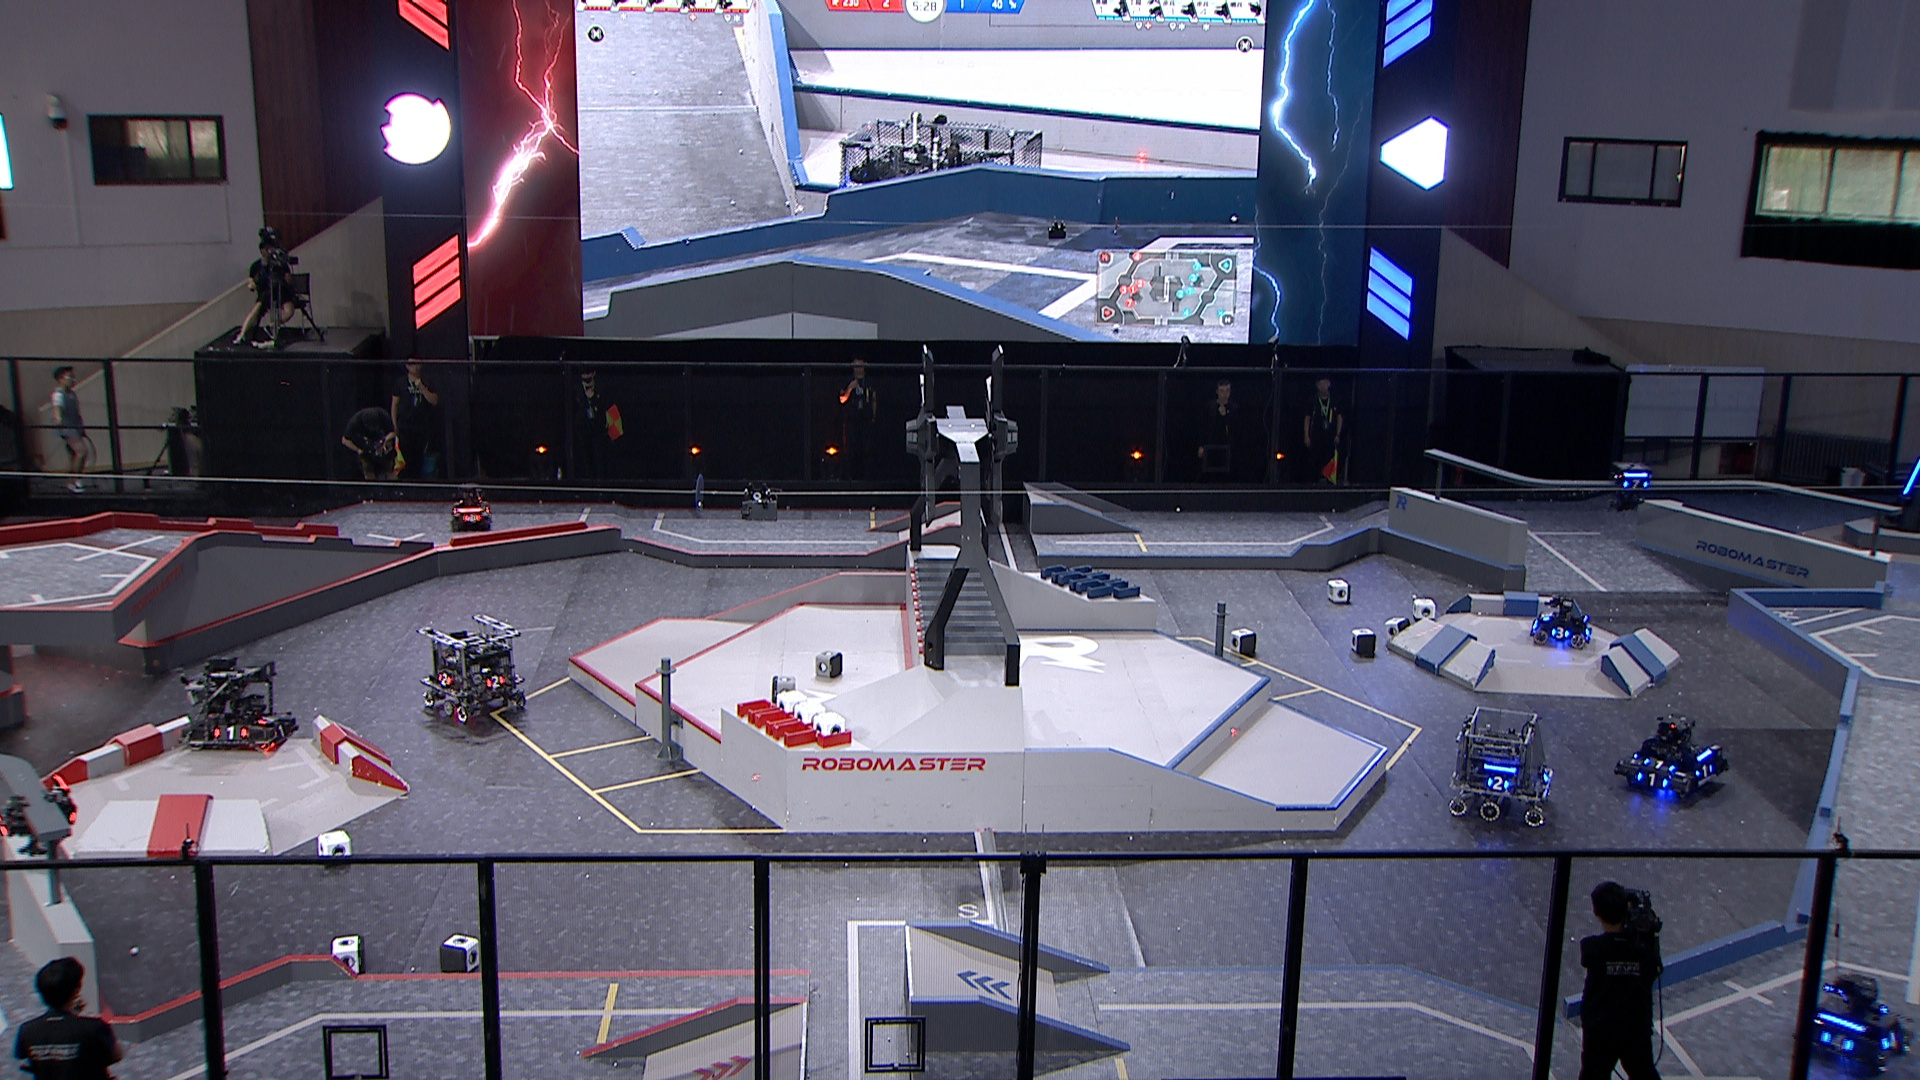armor: (1821, 1033, 1855, 1054), (1636, 771, 1669, 793), (1902, 460, 1920, 496), (1643, 757, 1676, 775), (214, 725, 248, 742), (1882, 1031, 1904, 1052), (1485, 775, 1510, 793), (1695, 764, 1717, 781), (272, 723, 291, 741), (484, 675, 508, 690), (1622, 479, 1650, 491), (256, 713, 280, 727), (1551, 626, 1572, 640), (436, 673, 454, 688), (462, 513, 484, 524), (1539, 611, 1555, 622)
base: (1879, 454, 1920, 537)
car: (1792, 968, 1917, 1076), (1447, 707, 1555, 828), (178, 655, 301, 757), (414, 615, 527, 721), (1611, 716, 1730, 803), (1528, 597, 1593, 650), (451, 487, 495, 533)
ignore: (836, 113, 1044, 191)
watcher: (1607, 462, 1654, 514)
